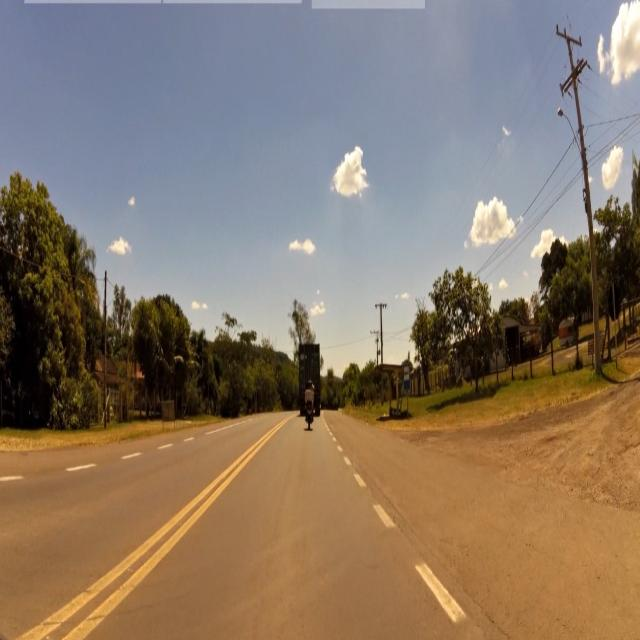S-14: (403, 362, 410, 390)
